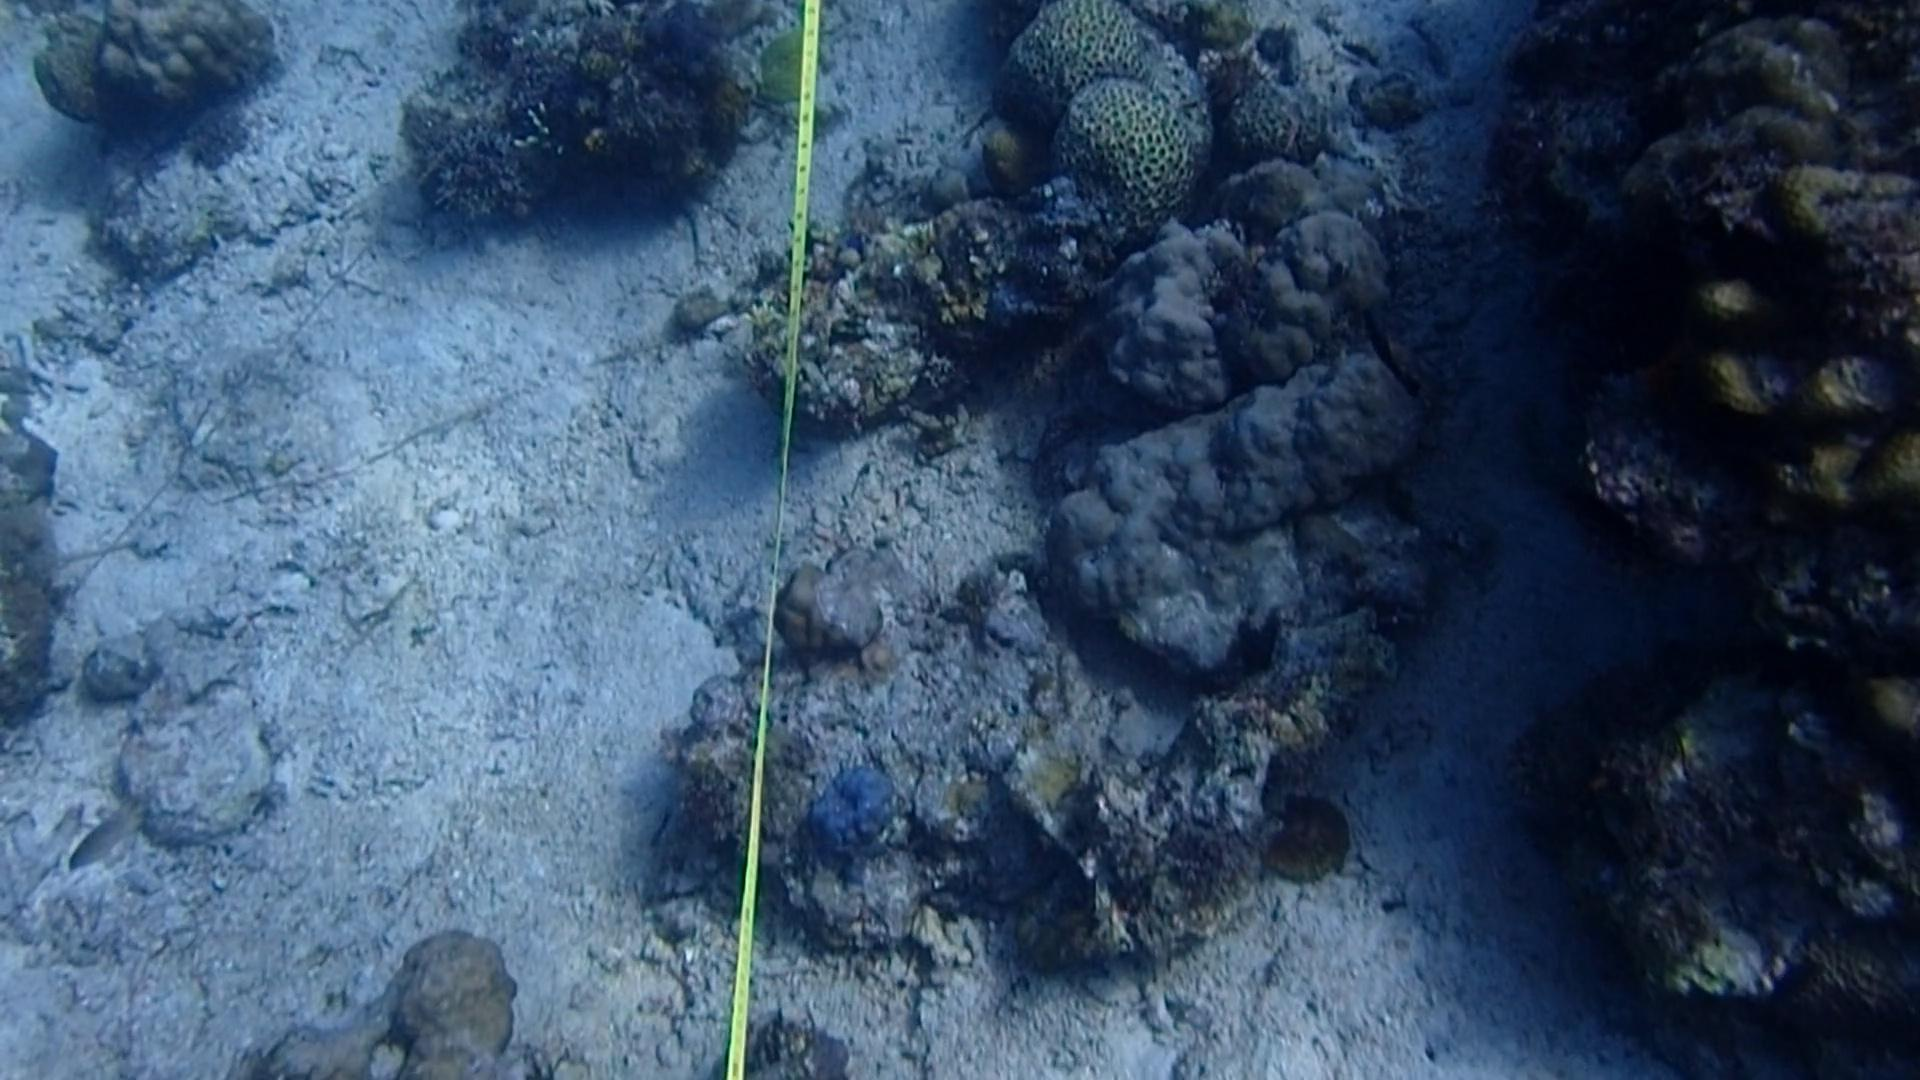Dark Fish: (1627, 208, 1803, 295), (1683, 390, 1840, 480), (1345, 284, 1437, 397), (1746, 931, 1828, 1022)
Light Fish: (65, 795, 142, 872)
